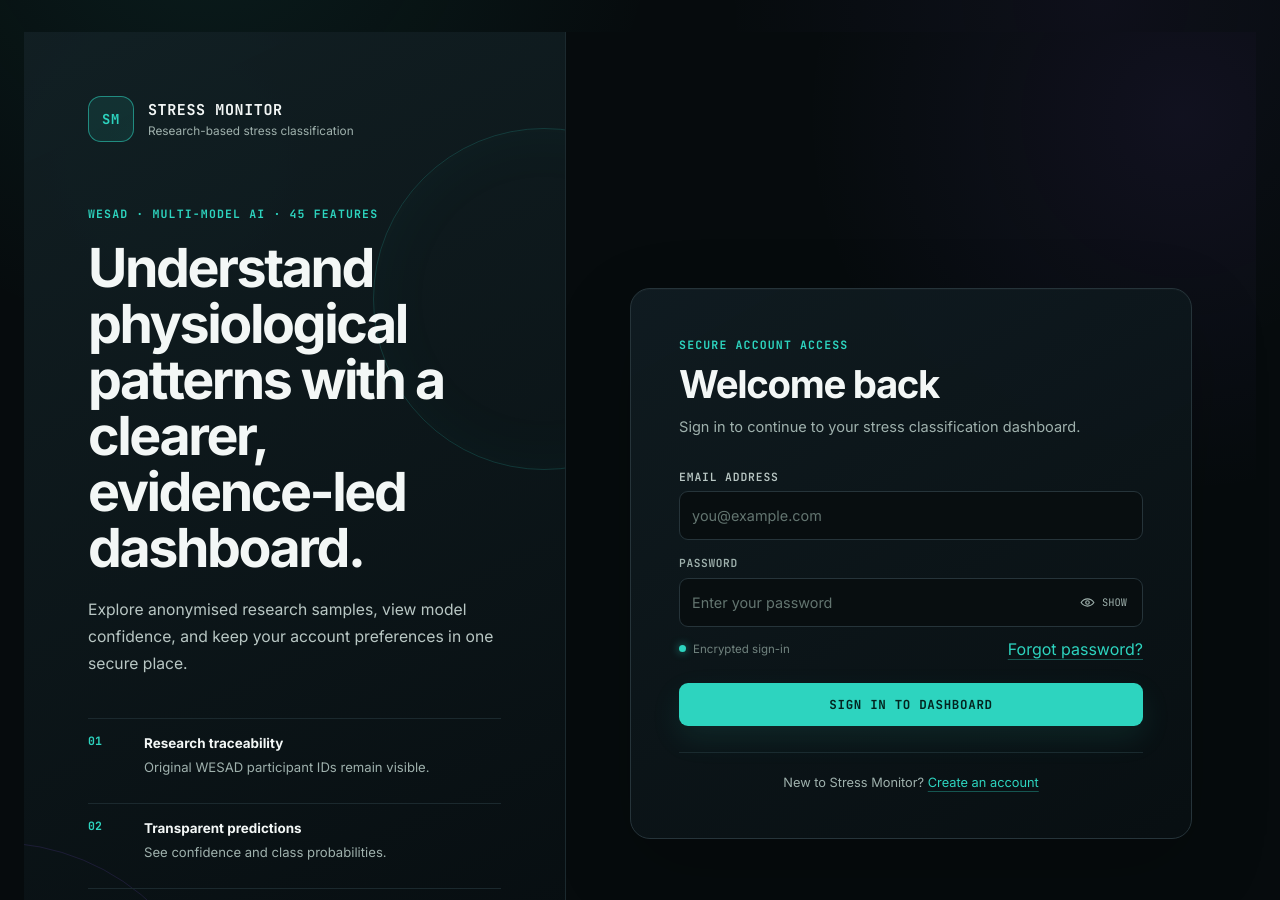
Scenario: LoginPage › displays the API login error
The image size is (1280, 900).
In the field labelled "Email address": (911, 515) top-left (679, 491), bottom-right (1143, 540), type "tester@example.com"
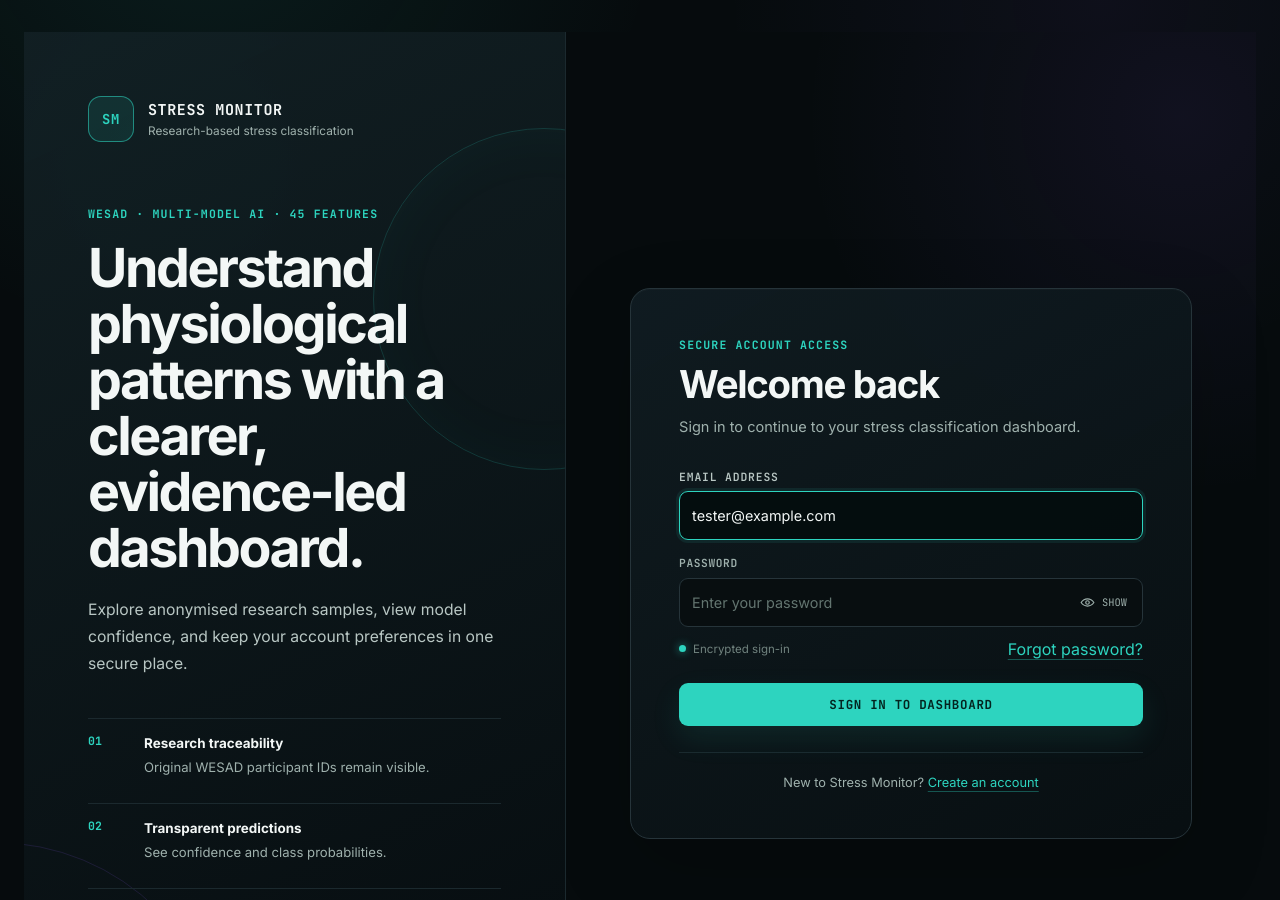
In the password field labelled "Password": (911, 602) top-left (679, 578), bottom-right (1143, 627), type "WrongPassword123!"
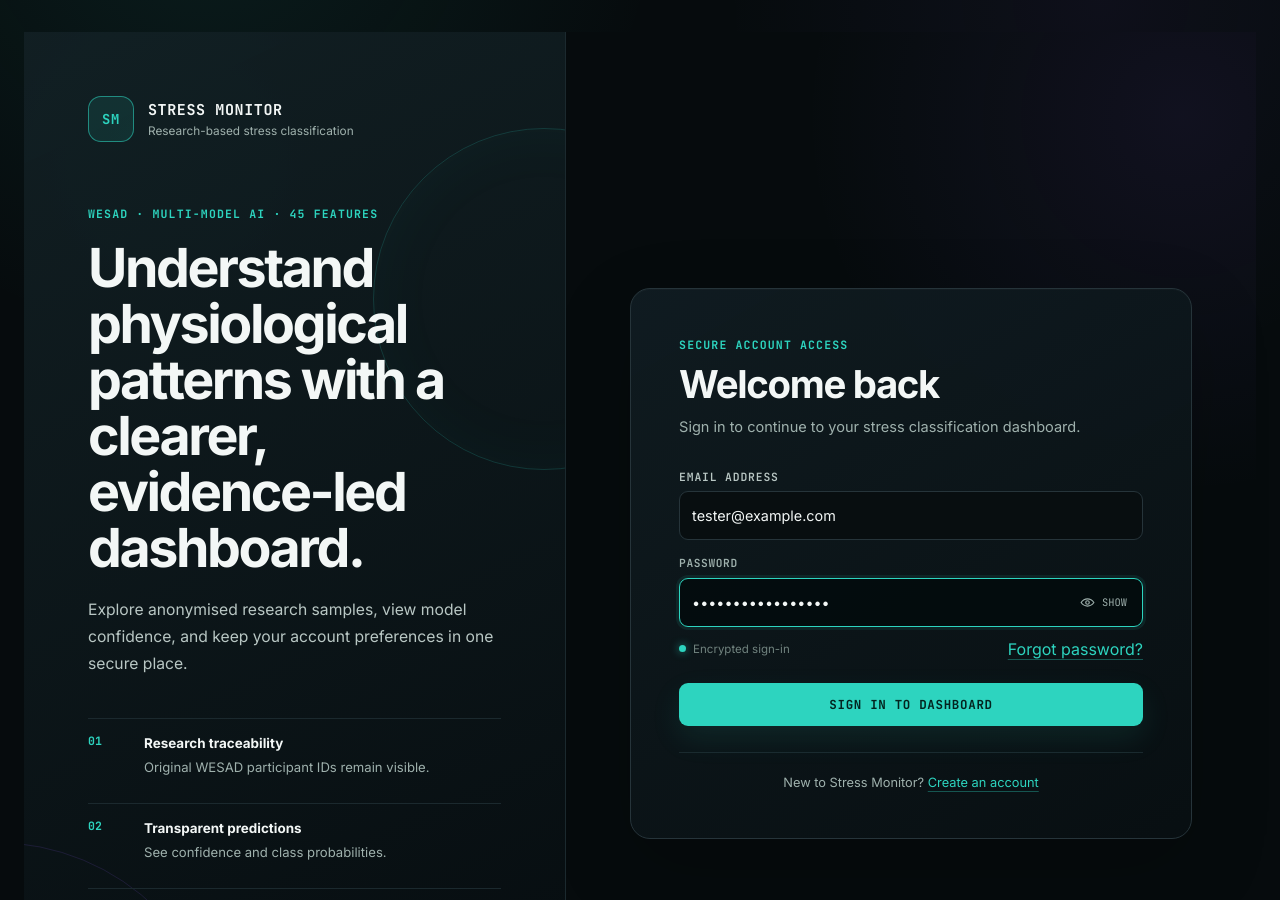
Click the button "Sign in to dashboard": (911, 704) top-left (679, 683), bottom-right (1143, 726)
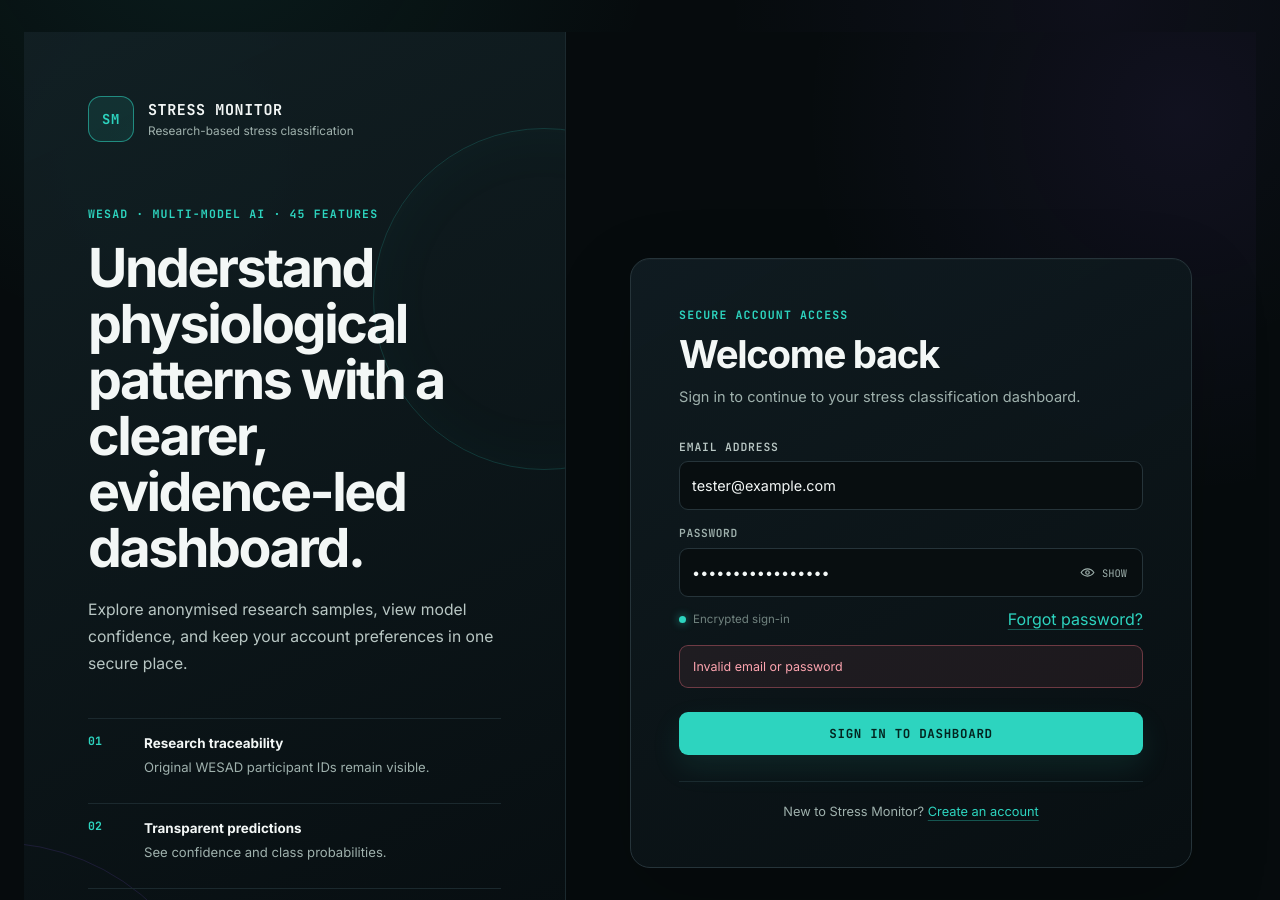
Result: the message reads "Invalid email or password" at top-left (693, 659), bottom-right (843, 674)
